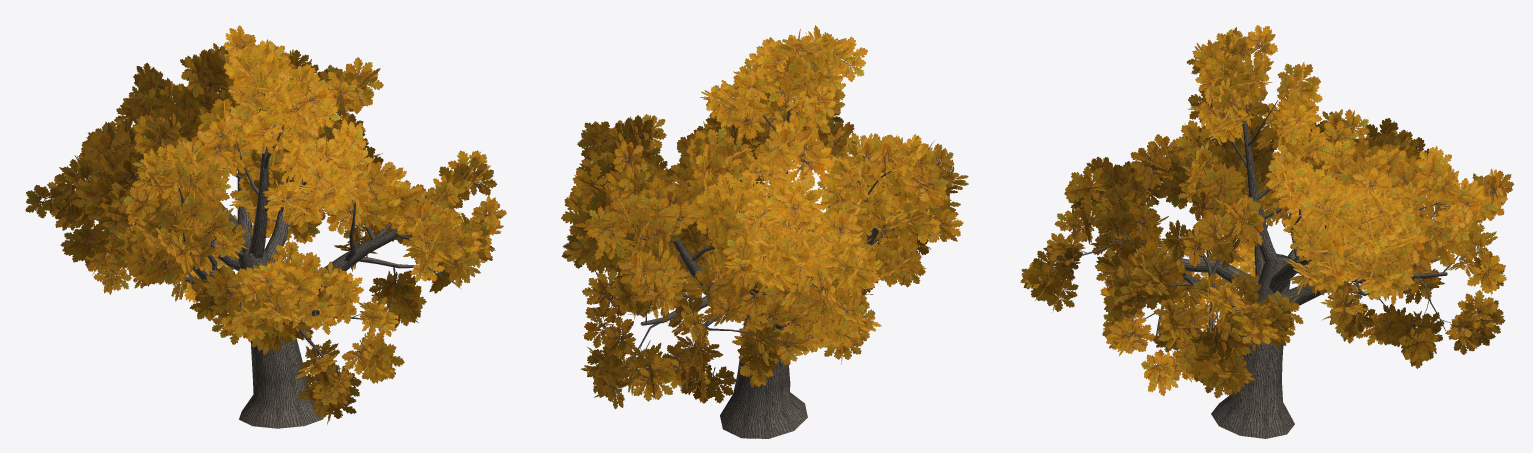
The model's file is nature-white-great-sun-oak.glb.
The picture shows the model from 3 angles, left to right: view 1: azimuth 30°, elevation 25°; view 2: azimuth 150°, elevation 25°; view 3: azimuth 270°, elevation 25°; orthographic projection. The views are drawn at different scales.
Parts seen in each view (by area): view 1: nature-white-great-sun-oak; view 2: nature-white-great-sun-oak; view 3: nature-white-great-sun-oak.
Part boxes in pixels (x1,y1,x2,y2): nature-white-great-sun-oak: [25, 25, 506, 428]; nature-white-great-sun-oak: [561, 25, 968, 438]; nature-white-great-sun-oak: [1020, 25, 1514, 438].
Size of the model in its own units: 16.1 by 16.21 by 19.21.
2 materials, 2 textured.
